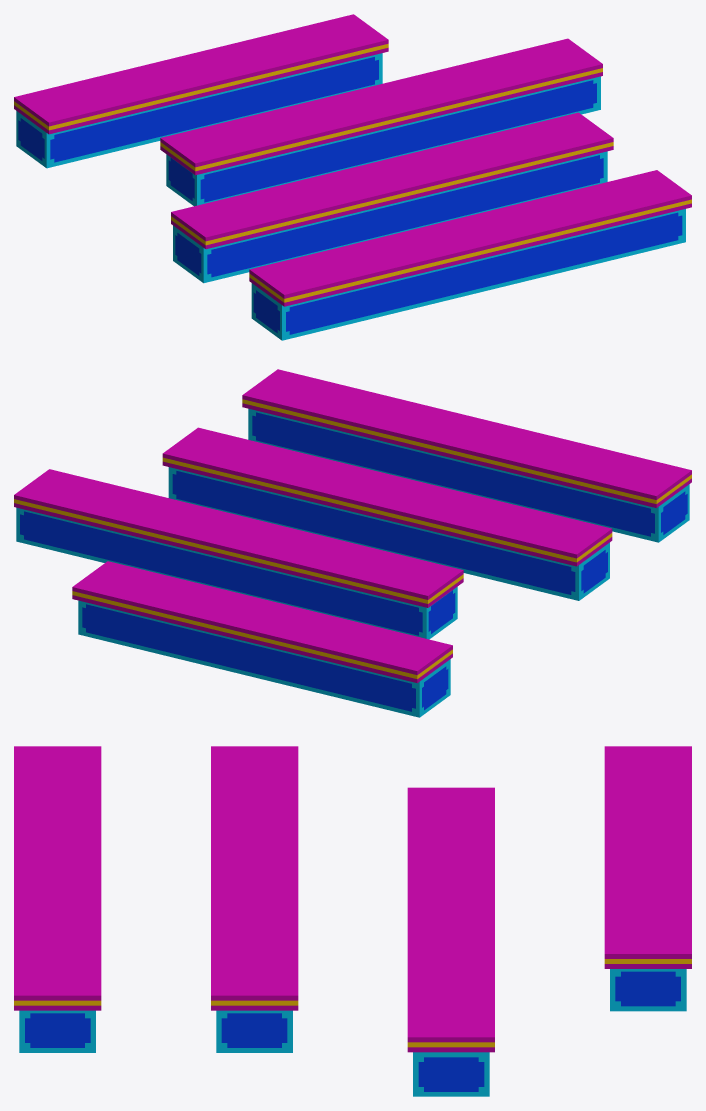
Rendered from level_1.2.obj.
3 renders of one model, top to bottom at view 1: azimuth 30°, elevation 25°; view 2: azimuth 150°, elevation 25°; view 3: azimuth 270°, elevation 25°, orthographic. The views are drawn at different scales.
Size of the model in its own units: 12.6 by 1.2 by 12.4.
1 material, 1 textured.
